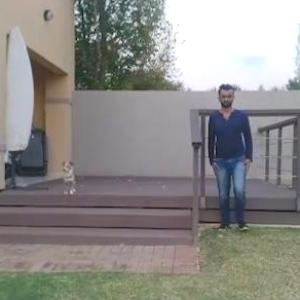follow: (208, 81, 256, 232)
